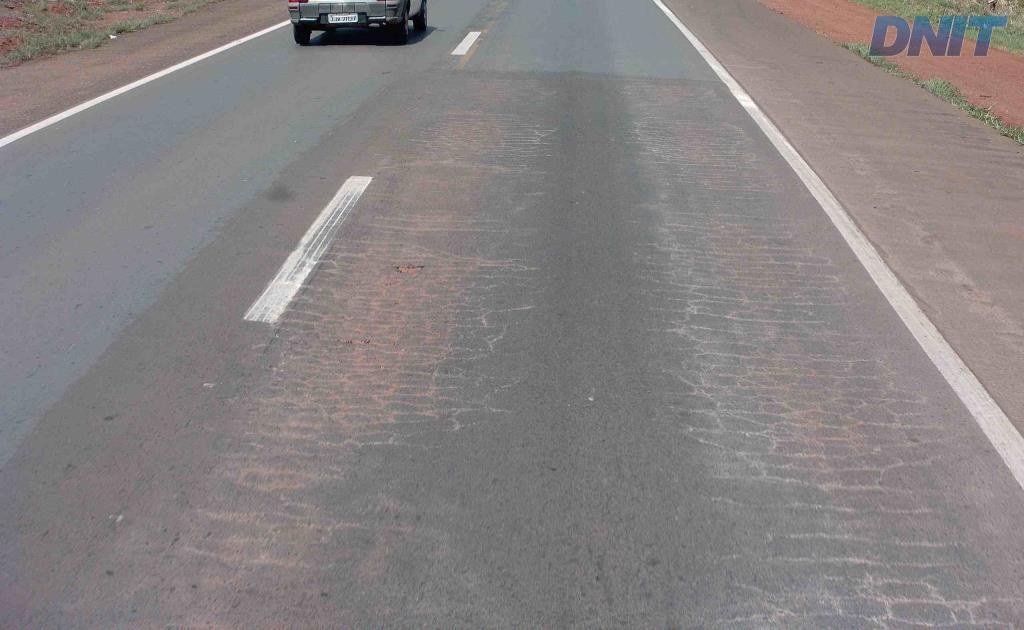pothole: (394, 261, 428, 274)
